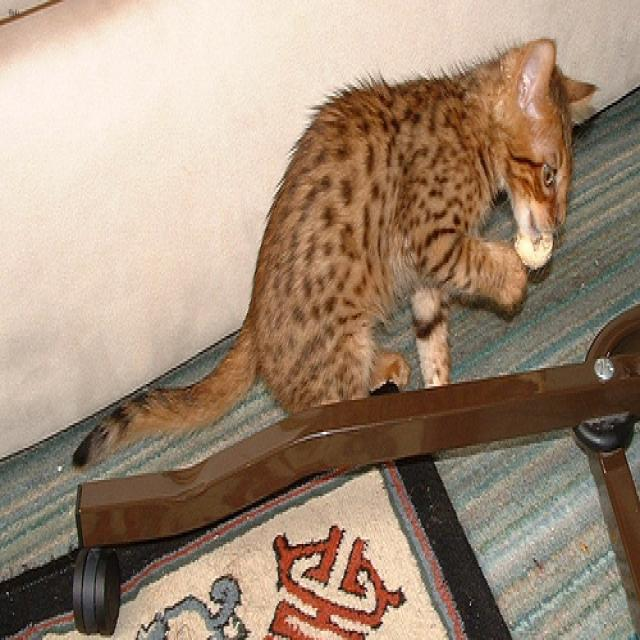Bengal: (490, 31, 600, 269)
